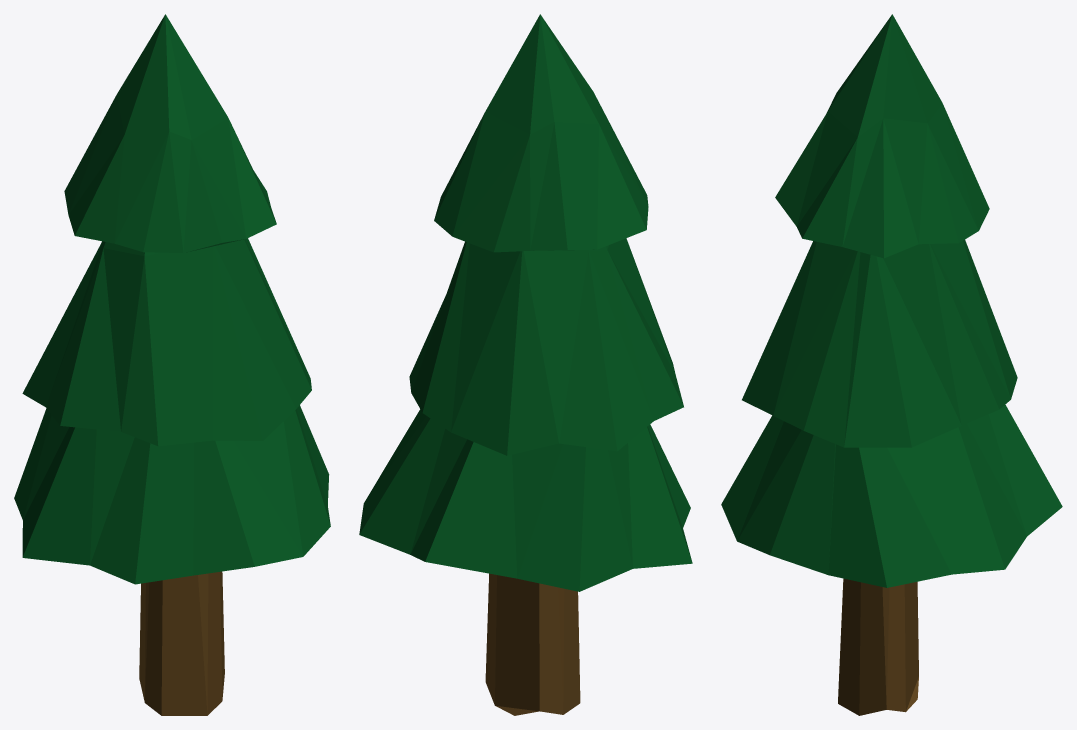
File: pine_tree.fbx
3 renders of one model, left to right at view 1: azimuth 30°, elevation 25°; view 2: azimuth 150°, elevation 25°; view 3: azimuth 270°, elevation 25°, orthographic. The views are drawn at different scales.
Parts seen in each view (by area): view 1: pine_tree; view 2: pine_tree; view 3: pine_tree.
Boxes of the visible parts, x1,y1,x2,y2 form: pine_tree: (14, 14, 330, 715); pine_tree: (359, 14, 692, 715); pine_tree: (721, 14, 1062, 715).
Bounding box in the file's own units: 286 × 610 × 276.
